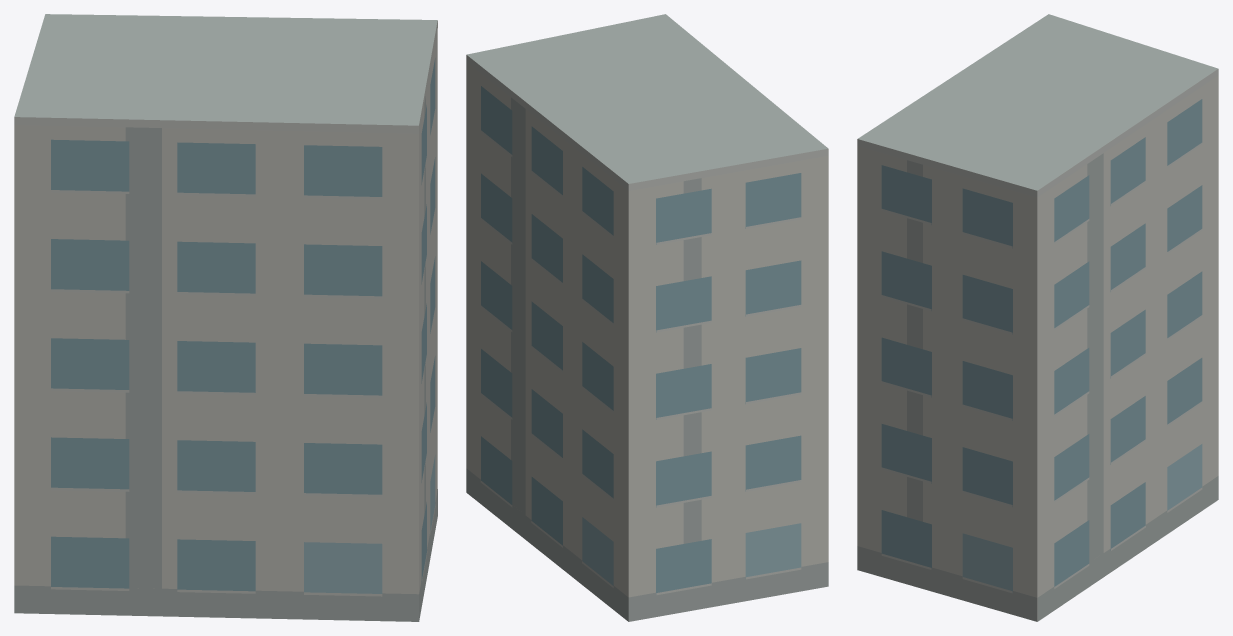
The model's file is survey-upis-32795400.glb.
3 views of the same model, side by side, from view 1: azimuth 30°, elevation 25°; view 2: azimuth 150°, elevation 25°; view 3: azimuth 270°, elevation 25° (orthographic). The views are drawn at different scales.
Visible parts, largest first — view 1: survey-upis-32795400.tmp; view 2: survey-upis-32795400.tmp; view 3: survey-upis-32795400.tmp.
Part boxes in pixels (x1,y1,x2,y2): survey-upis-32795400.tmp: (14, 14, 437, 621); survey-upis-32795400.tmp: (466, 14, 828, 621); survey-upis-32795400.tmp: (857, 14, 1218, 621).
Bounding box in the file's own units: 13.42 × 15.25 × 11.59.
